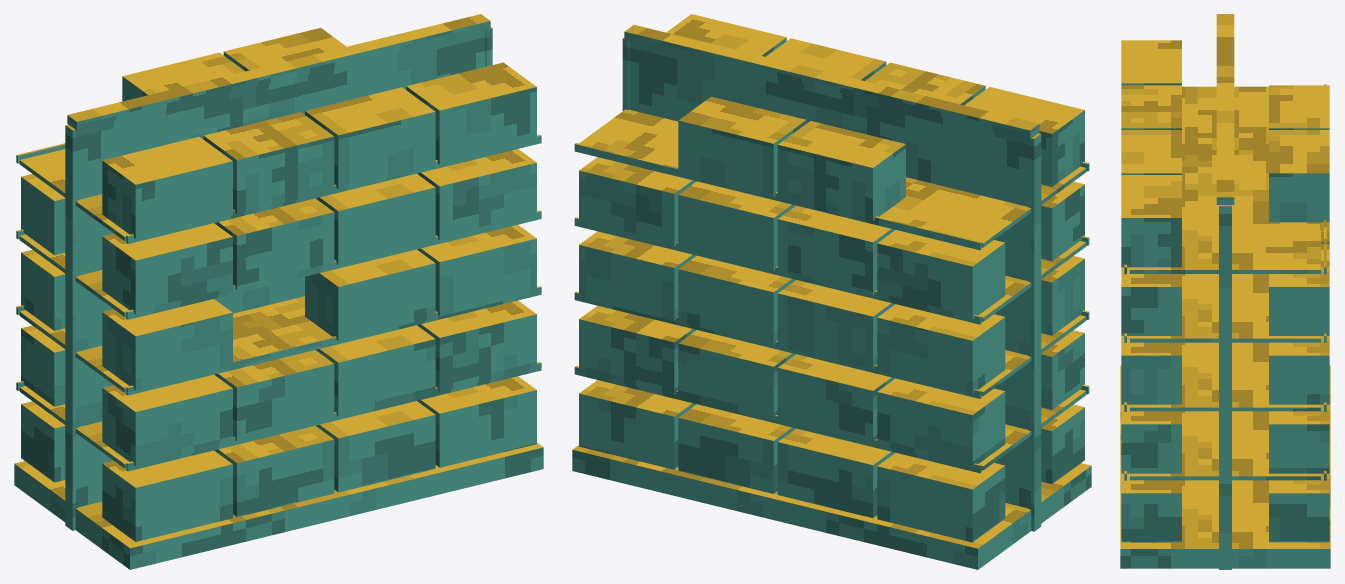
The model's file is gondola_market.fbx.
3 views of the same model, side by side, from view 1: azimuth 30°, elevation 25°; view 2: azimuth 150°, elevation 25°; view 3: azimuth 270°, elevation 25° (orthographic). The views are drawn at different scales.
Parts seen in each view (by area): view 1: gondola_market; view 2: gondola_market; view 3: gondola_market.
Part boxes in pixels (x1=…): gondola_market: x1=14, y1=14, x2=543, y2=569; gondola_market: x1=572, y1=14, x2=1091, y2=569; gondola_market: x1=1120, y1=14, x2=1330, y2=569.
Size of the model in its own units: 203 by 189 by 97.
